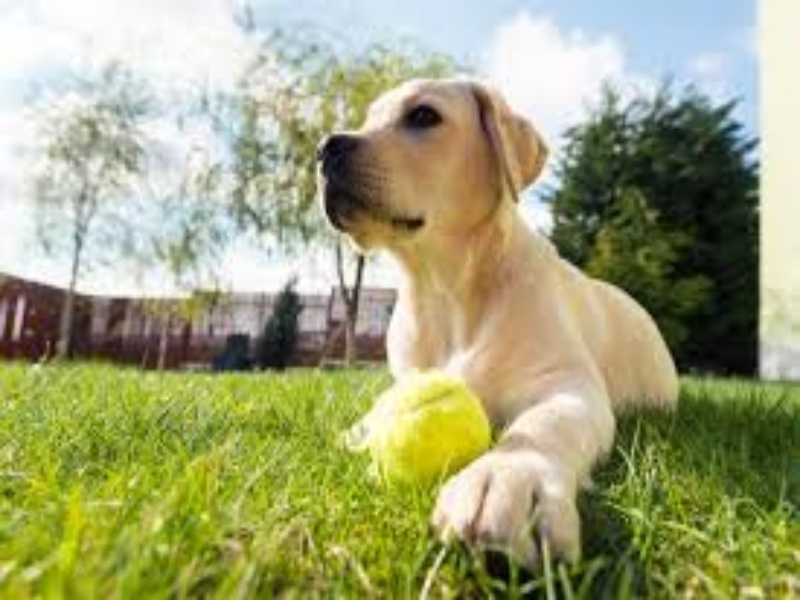dog: (314, 67, 689, 583)
